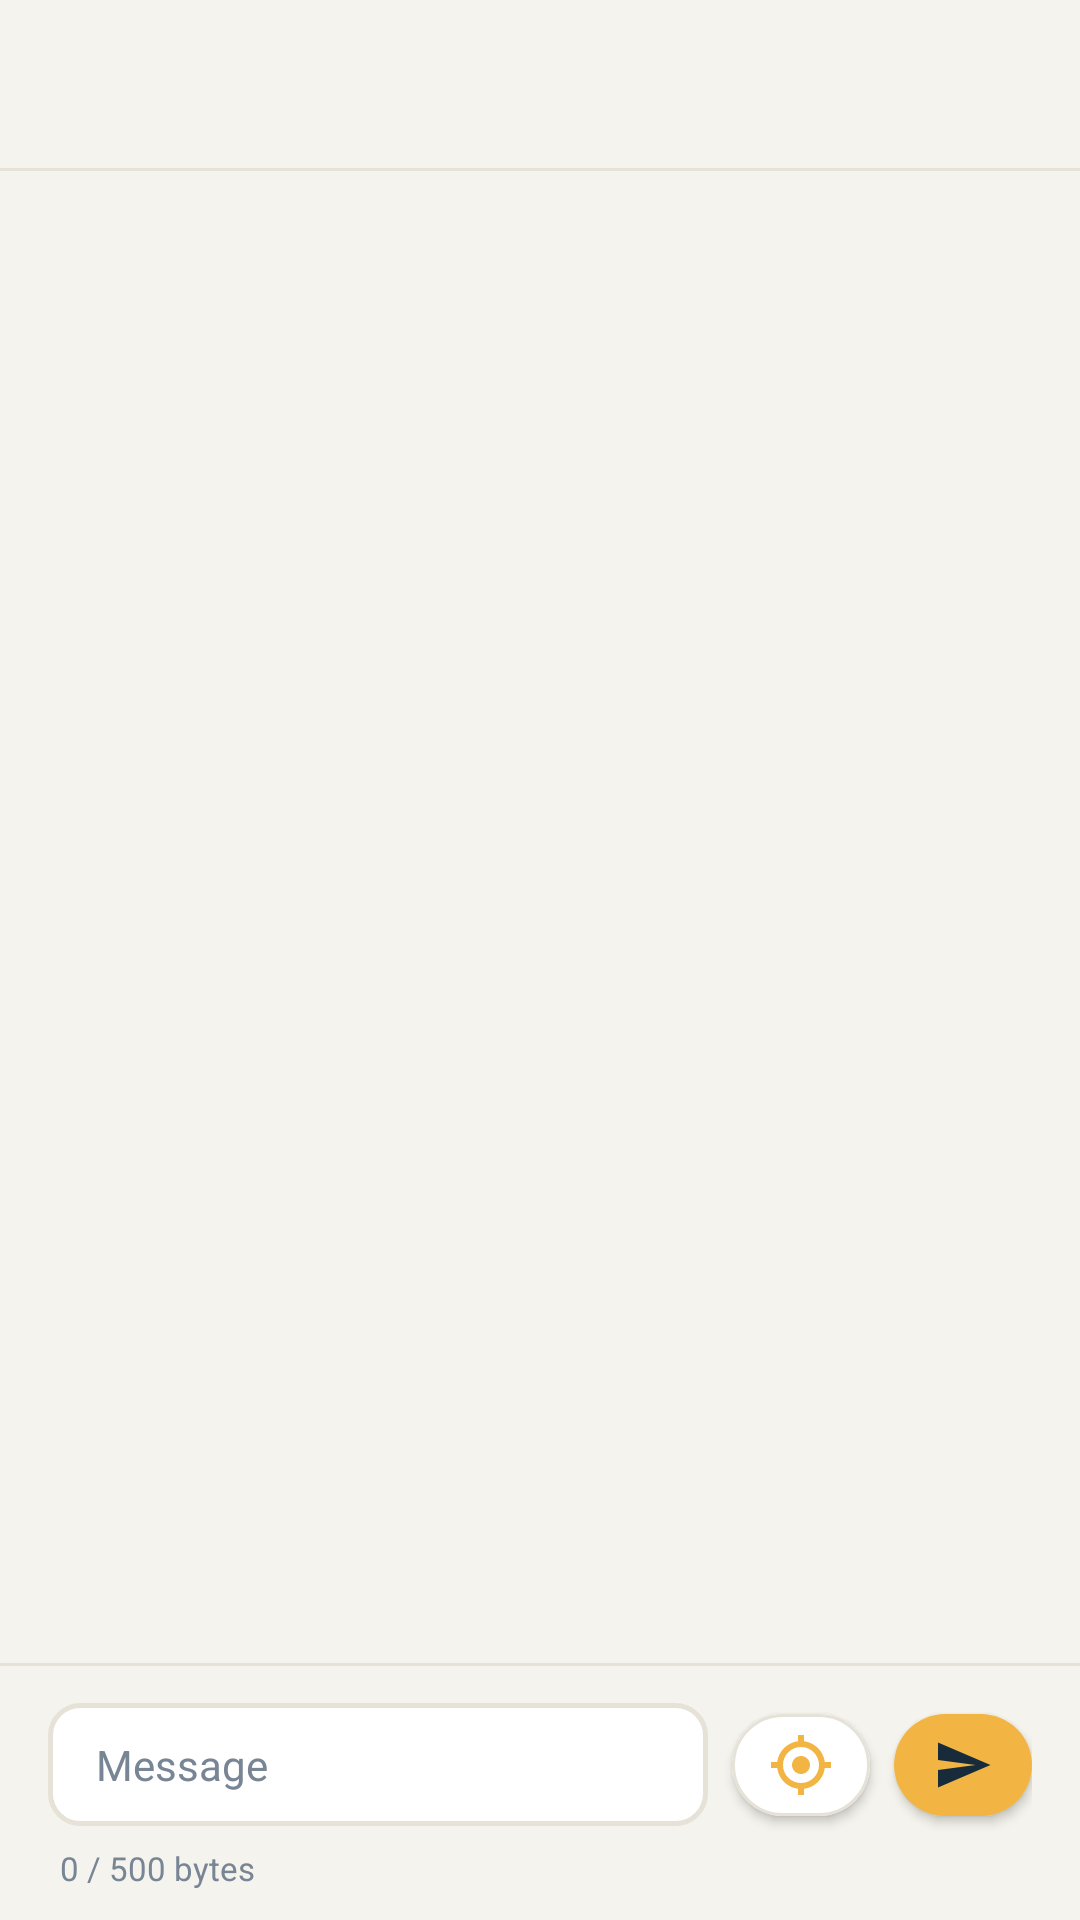

Point at icon controls on the screen. Image size 1080 × 1920, points as (x=x, y=y).
Insert current coordinates: (x=801, y=1770)
send plane: (x=963, y=1767)
